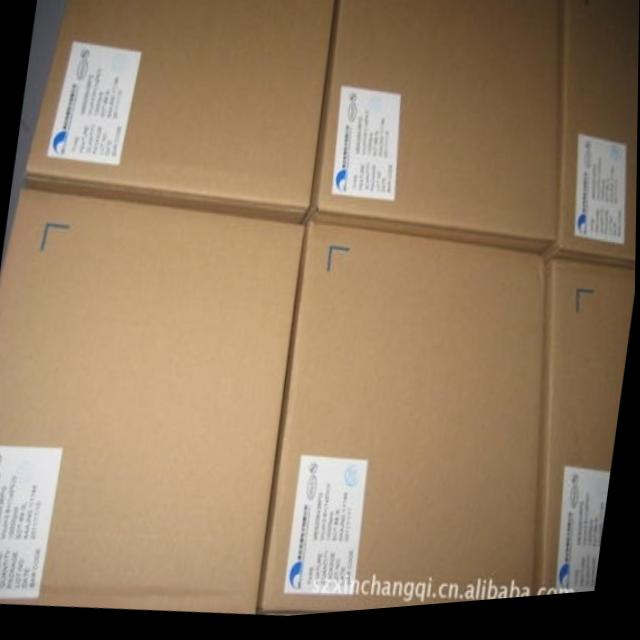box: (0, 188, 303, 617), (260, 227, 546, 617), (21, 0, 337, 227), (310, 0, 561, 262), (535, 271, 636, 605), (545, 0, 640, 278)
